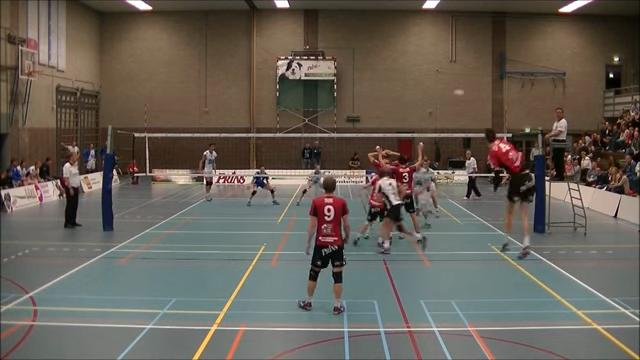Player: (298, 176, 349, 314), (376, 166, 426, 253), (390, 142, 423, 234), (354, 174, 385, 245), (413, 161, 438, 228), (414, 159, 439, 217), (247, 167, 279, 205), (296, 164, 321, 205), (199, 143, 216, 200), (367, 146, 399, 169)
Serve: (480, 126, 539, 261)
ball: (453, 87, 465, 97)
